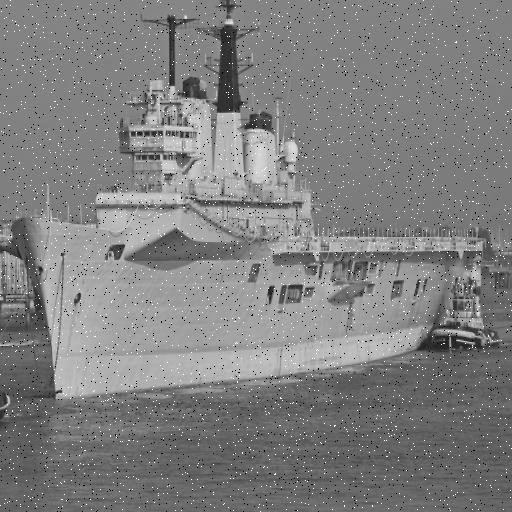Portanaves: (1, 1, 489, 409)
